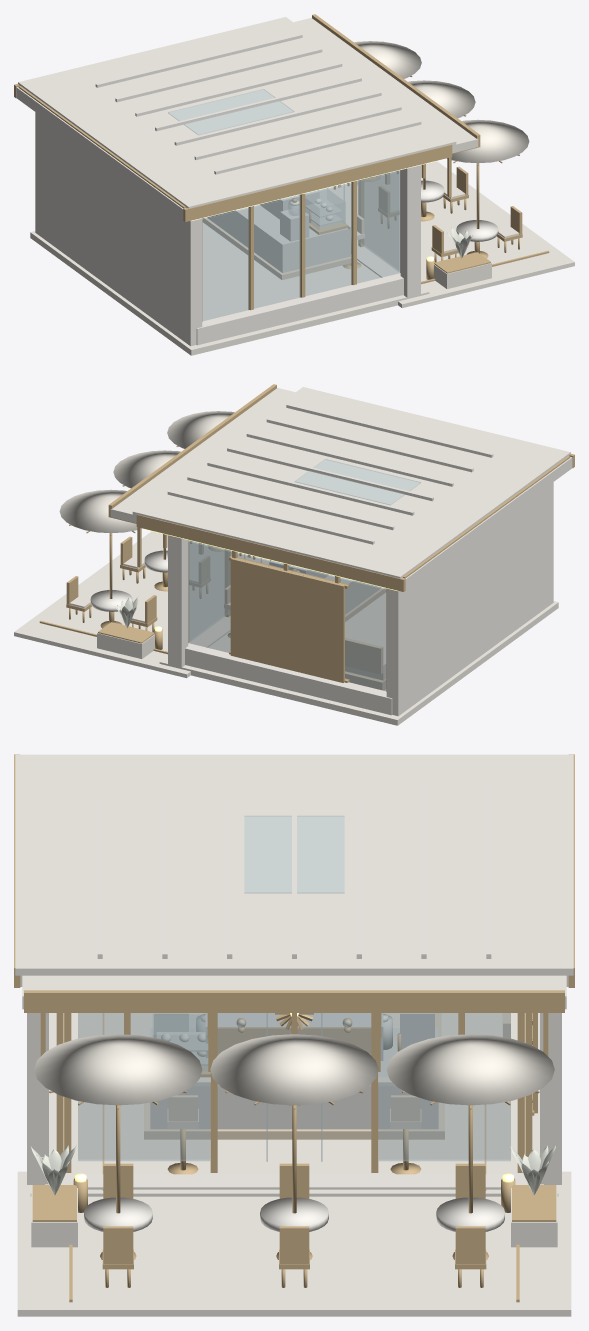
Rendered from dubai_premium_cafe.glb.
3 renders of one model, top to bottom at view 1: azimuth 30°, elevation 25°; view 2: azimuth 150°, elevation 25°; view 3: azimuth 270°, elevation 25°, orthographic. The views are drawn at different scales.
Visible parts, largest first — view 1: CafeCream, CafeLimestone, CafeGlass, CafeTravertine, CafeBronze, CafeFabric, CafeCounter, CafeSteel, CafeOak, CafeCeramic; view 2: CafeCream, CafeLimestone, CafeBronze, CafeTravertine, CafeGlass, CafeFabric, CafeOak, CafeCeramic, CafeCounter; view 3: CafeCream, CafeTravertine, CafeBronze, CafeGlass, CafeFabric, CafeLimestone, CafeCounter, CafeCeramic, CafeOak, CafeSteel, CafeGreen.
Part boxes in pixels (x1,y1,x2,y2): CafeCream: [18, 17, 478, 211]; CafeLimestone: [16, 34, 421, 346]; CafeGlass: [168, 89, 400, 320]; CafeTravertine: [30, 161, 574, 355]; CafeBronze: [14, 14, 549, 321]; CafeFabric: [351, 41, 529, 252]; CafeCounter: [207, 204, 350, 272]; CafeSteel: [259, 190, 342, 241]; CafeOak: [202, 214, 364, 279]; CafeCeramic: [326, 180, 498, 241]; CafeCream: [110, 387, 570, 578]; CafeLimestone: [167, 404, 572, 716]; CafeBronze: [39, 384, 574, 691]; CafeTravertine: [14, 531, 558, 725]; CafeGlass: [188, 459, 420, 690]; CafeFabric: [59, 411, 386, 680]; CafeOak: [224, 585, 386, 690]; CafeCeramic: [90, 550, 167, 611]; CafeCounter: [325, 574, 381, 614]; CafeCream: [15, 754, 573, 1041]; CafeTravertine: [17, 1013, 571, 1316]; CafeBronze: [14, 754, 574, 1302]; CafeGlass: [78, 815, 510, 1161]; CafeFabric: [34, 1013, 554, 1128]; CafeLimestone: [20, 790, 568, 1189]; CafeCounter: [150, 1028, 438, 1129]; CafeCeramic: [84, 1014, 504, 1231]; CafeOak: [144, 1013, 510, 1139]; CafeSteel: [154, 1013, 434, 1065]; CafeGreen: [30, 1145, 555, 1195].
Bounding box in the file's own units: 11.41 × 4.41 × 8.66.
